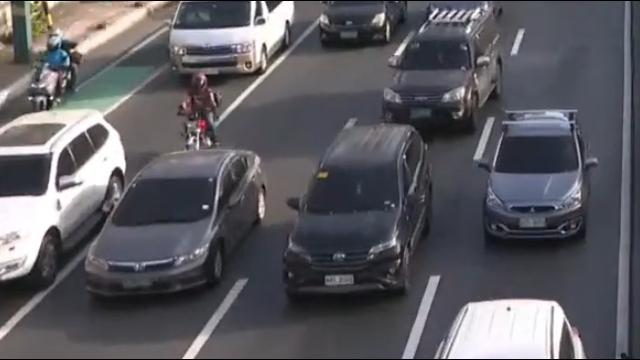car: (83, 145, 270, 299), (283, 125, 432, 307), (1, 109, 127, 296), (475, 108, 598, 242), (382, 4, 502, 134), (428, 298, 592, 360), (319, 0, 409, 46)
motorcycle: (25, 34, 78, 121), (175, 71, 222, 154)
van: (169, 0, 297, 79)
